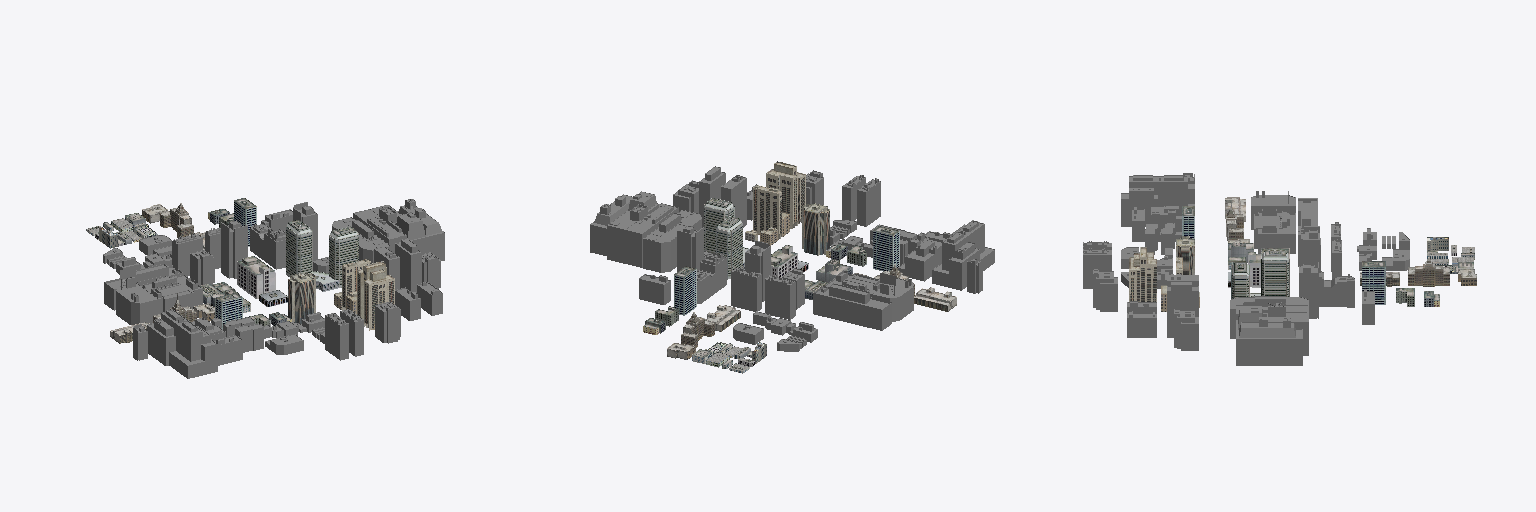
3 views of the same model, side by side, from view 1: azimuth 30°, elevation 25°; view 2: azimuth 150°, elevation 25°; view 3: azimuth 270°, elevation 25° (orthographic).
Parts seen in each view (by area): view 1: Line22, Shape01, Shape03, Box03, PJL_HWX_474, PJL_HWX_505, PJL_HWX_507, Line01dfhdfhdh, Line13, Line29, Line10sdgsg, PJL_HWX_506 (+16 smaller); view 2: Shape03, Shape01, Line22, PJL_HWX_474, Box03, PJL_HWX_507, Rectangle36, PJL_HWX_506, Rectangle49, Line01dfhdfhdh, Rectangle15, Line10sdgsg (+14 smaller); view 3: Shape03, Line22, Shape01, Box03, PJL_HWX_474, PJL_HWX_506, Rectangle49, PJL_HWX_507, Line13, Line01dfhdfhdh, Rectangle10, Object01 (+9 smaller).
Boxes of the visible parts, box(x1,y1,x2,y2) form: Line22: box(200, 220, 358, 312); Shape01: box(104, 264, 202, 324); Shape03: box(332, 199, 444, 263); Box03: box(147, 309, 217, 378); PJL_HWX_474: box(334, 259, 394, 330); PJL_HWX_505: box(264, 312, 324, 354); PJL_HWX_507: box(103, 235, 171, 274); Line01dfhdfhdh: box(86, 213, 157, 248); Line13: box(250, 220, 285, 269); Line29: box(221, 220, 247, 278); Line10sdgsg: box(288, 272, 315, 323); PJL_HWX_506: box(142, 203, 204, 249); Shape03: box(590, 191, 701, 272); Shape01: box(813, 270, 913, 330); Line22: box(704, 198, 852, 299); PJL_HWX_474: box(745, 161, 805, 245); Box03: box(932, 220, 994, 290); PJL_HWX_507: box(733, 311, 817, 351); Rectangle36: box(826, 226, 899, 271); PJL_HWX_506: box(667, 305, 740, 359); Rectangle49: box(643, 266, 696, 334); Line01dfhdfhdh: box(692, 342, 766, 373); Rectangle15: box(898, 232, 942, 281); Line10sdgsg: box(802, 203, 829, 255); Shape03: box(1230, 296, 1308, 365); Line22: box(1228, 243, 1289, 298); Shape01: box(1251, 191, 1317, 253); Box03: box(1121, 175, 1194, 226); PJL_HWX_474: box(1129, 247, 1199, 311); PJL_HWX_506: box(1360, 257, 1476, 286); Rectangle49: box(1362, 261, 1439, 306); PJL_HWX_507: box(1357, 228, 1409, 270); Line13: box(1319, 269, 1354, 307); Line01dfhdfhdh: box(1427, 237, 1474, 273); Rectangle10: box(1167, 282, 1198, 337); Object01: box(1093, 269, 1117, 311).
Size of the model in its own units: 52235 by 8630 by 53502.
Materials: 21 (6 with a texture image).